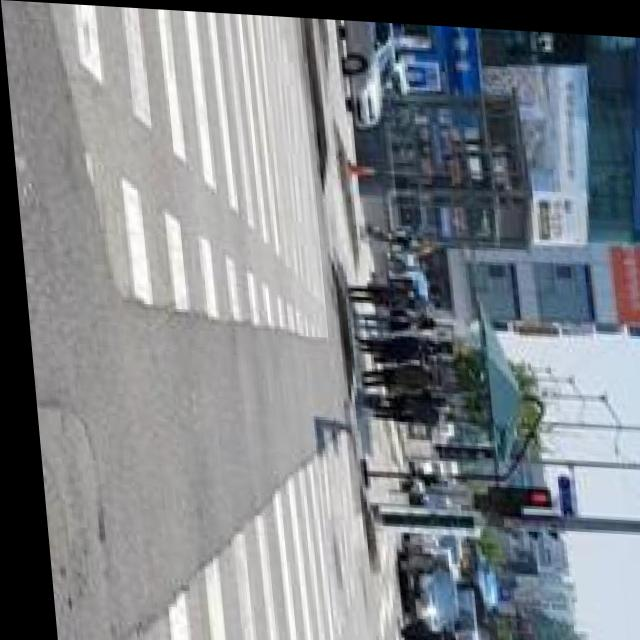zebra: (82, 31, 330, 313), (151, 449, 354, 640)
